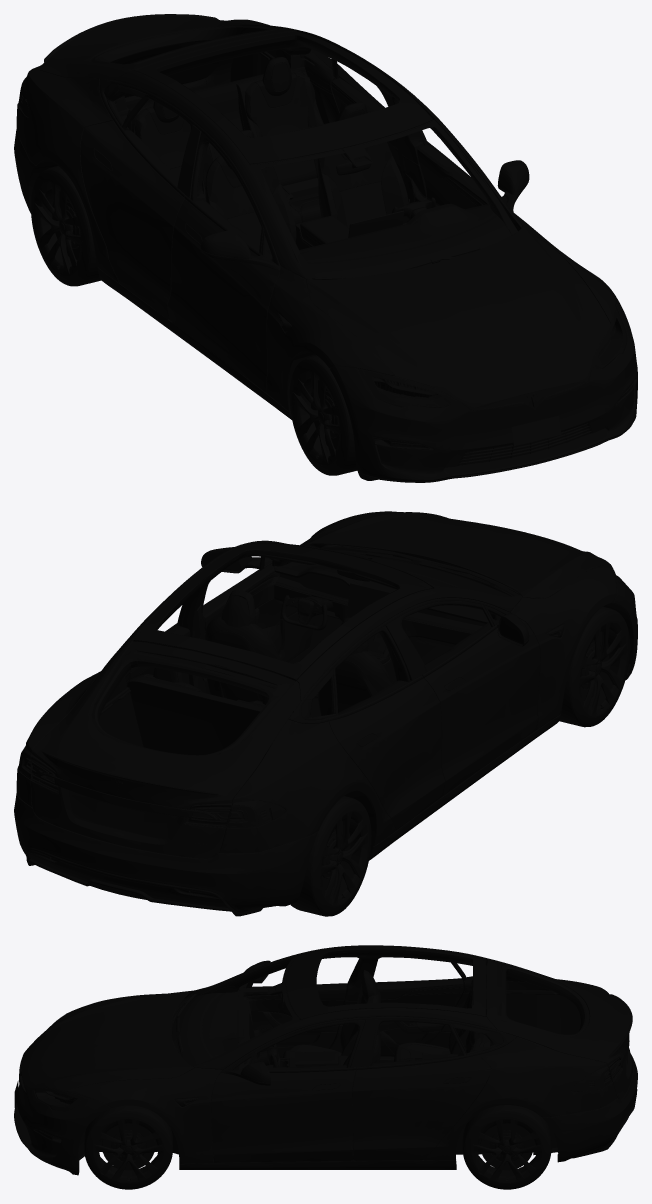
The model's file is plaid.glb.
3 views of the same model, one above another, from view 1: azimuth 30°, elevation 25°; view 2: azimuth 150°, elevation 25°; view 3: azimuth 270°, elevation 25° (orthographic). The views are drawn at different scales.
Visible parts, largest first — view 1: Object_453, Object_182, Object_14, Object_10, Object_377, Object_695, Object_373, Object_836, Object_392, Object_550; view 2: Object_453, Object_182, Object_14, Object_10, Object_377, Object_373, Object_702, Object_695, Object_381, Object_836; view 3: Object_453, Object_182, Object_14, Object_10, Object_377, Object_695, Object_373, Object_24, Object_392.
Boxes of the visible parts, x1,y1,x2,y2 form: Object_453: (14, 16, 637, 481); Object_182: (18, 29, 637, 482); Object_14: (33, 26, 495, 465); Object_10: (31, 166, 393, 475); Object_377: (119, 34, 508, 276); Object_695: (291, 144, 511, 277); Object_373: (22, 14, 489, 323); Object_836: (511, 415, 561, 446); Object_392: (21, 79, 626, 440); Object_550: (364, 370, 455, 406); Object_453: (14, 511, 637, 912); Object_182: (18, 542, 632, 916); Object_14: (53, 562, 627, 906); Object_10: (291, 544, 630, 916); Object_377: (99, 542, 494, 746); Object_373: (23, 566, 560, 893); Object_702: (280, 573, 485, 652); Object_695: (267, 552, 510, 654); Object_381: (18, 751, 258, 826); Object_836: (95, 801, 144, 831); Object_453: (14, 945, 637, 1170); Object_182: (16, 945, 637, 1175); Object_14: (93, 957, 588, 1183); Object_10: (84, 993, 551, 1189); Object_377: (197, 949, 580, 1052); Object_695: (172, 964, 394, 1066); Object_373: (184, 970, 632, 1101); Object_24: (102, 1123, 533, 1170); Object_392: (19, 990, 629, 1111).
Size of the model in its own units: 0.2243 by 0.1513 by 0.512.
Materials: 20 (20 with a texture image).
